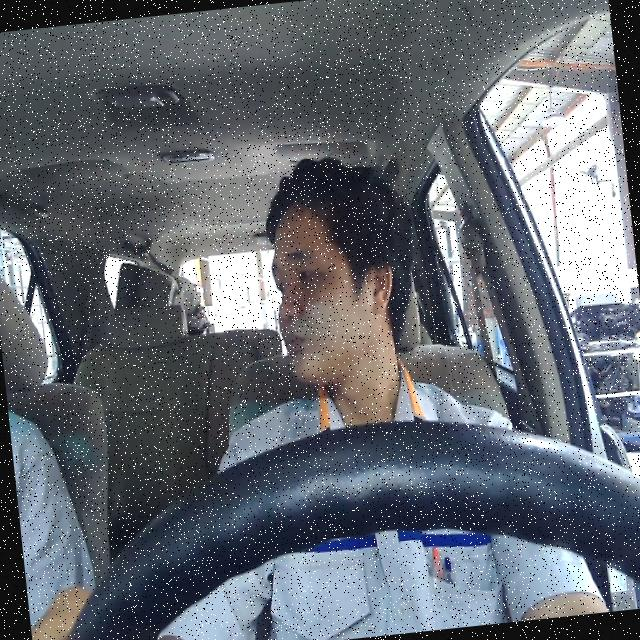seeing_left: (262, 182, 404, 385)
